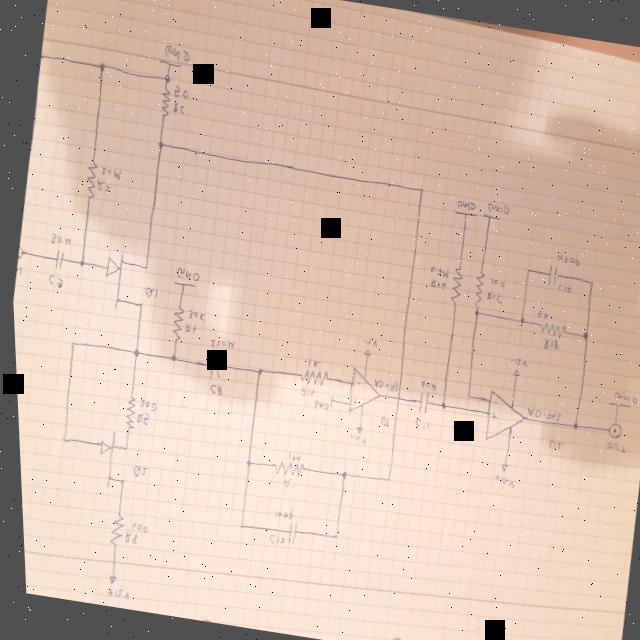capacitor: (202, 351, 223, 379), (540, 262, 557, 288), (280, 519, 294, 544), (413, 389, 426, 414), (49, 248, 63, 270)
crossover: (391, 394, 397, 401)
ground: (450, 208, 476, 220), (603, 398, 628, 409), (156, 58, 182, 68), (169, 278, 193, 288), (478, 211, 498, 222), (325, 392, 331, 408)
junction: (154, 138, 163, 150), (161, 72, 170, 84), (96, 60, 105, 71), (165, 352, 174, 362), (566, 420, 575, 430), (251, 366, 260, 376), (65, 337, 74, 347), (335, 470, 343, 480), (75, 258, 83, 268), (325, 530, 333, 540), (435, 400, 442, 410), (240, 458, 247, 468), (578, 330, 585, 340), (56, 434, 63, 444), (584, 278, 592, 286), (129, 348, 136, 357), (415, 185, 422, 193), (233, 522, 239, 530), (522, 266, 528, 274), (470, 308, 476, 316), (516, 316, 521, 324), (462, 392, 467, 399), (380, 475, 385, 482)
resistor: (101, 511, 122, 548), (165, 302, 184, 341), (267, 457, 300, 479), (444, 266, 462, 306), (80, 158, 97, 199), (295, 366, 326, 387), (117, 394, 134, 431), (467, 269, 483, 308), (156, 84, 172, 118), (535, 320, 563, 339)
source: (99, 572, 112, 585), (494, 462, 504, 472), (350, 424, 359, 434), (507, 368, 516, 377), (358, 347, 367, 356)
terminal: (14, 239, 27, 260), (602, 422, 618, 439)
text: (521, 405, 559, 422), (205, 335, 233, 351), (368, 376, 396, 392), (171, 266, 197, 283), (163, 44, 190, 60), (487, 471, 512, 488), (99, 584, 125, 600), (553, 250, 578, 266), (267, 505, 290, 522), (97, 164, 120, 180), (46, 232, 70, 247), (342, 429, 363, 446), (609, 390, 634, 404), (413, 376, 434, 392), (133, 396, 154, 412), (43, 272, 63, 288), (452, 198, 474, 212), (425, 264, 447, 278), (169, 85, 188, 101), (484, 202, 508, 214), (485, 274, 503, 290), (124, 520, 144, 534), (601, 440, 622, 453), (139, 284, 156, 300), (117, 530, 134, 546), (538, 336, 556, 351), (183, 308, 202, 322), (130, 410, 146, 426), (295, 382, 311, 398), (203, 382, 220, 397), (426, 276, 444, 290), (482, 290, 500, 304), (409, 416, 427, 430), (542, 438, 560, 452), (262, 532, 280, 546), (93, 178, 109, 193), (127, 464, 144, 478), (307, 398, 325, 410), (179, 320, 194, 334), (505, 356, 524, 367), (12, 261, 23, 280), (554, 282, 570, 294), (302, 356, 318, 368), (357, 336, 374, 347), (282, 450, 297, 462), (374, 414, 386, 428), (533, 308, 546, 320), (170, 102, 183, 114), (277, 478, 290, 488), (486, 410, 493, 420), (347, 396, 354, 406), (488, 398, 493, 406), (351, 380, 357, 386)
transistor: (93, 248, 150, 314), (85, 428, 130, 491)
